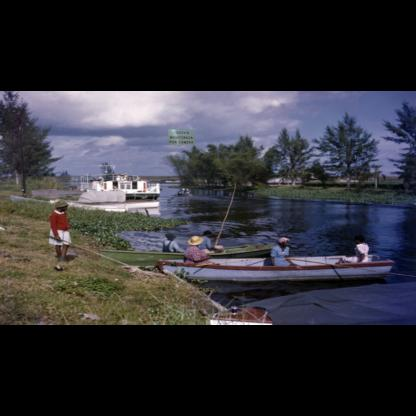I-E: (168, 129, 194, 145)
